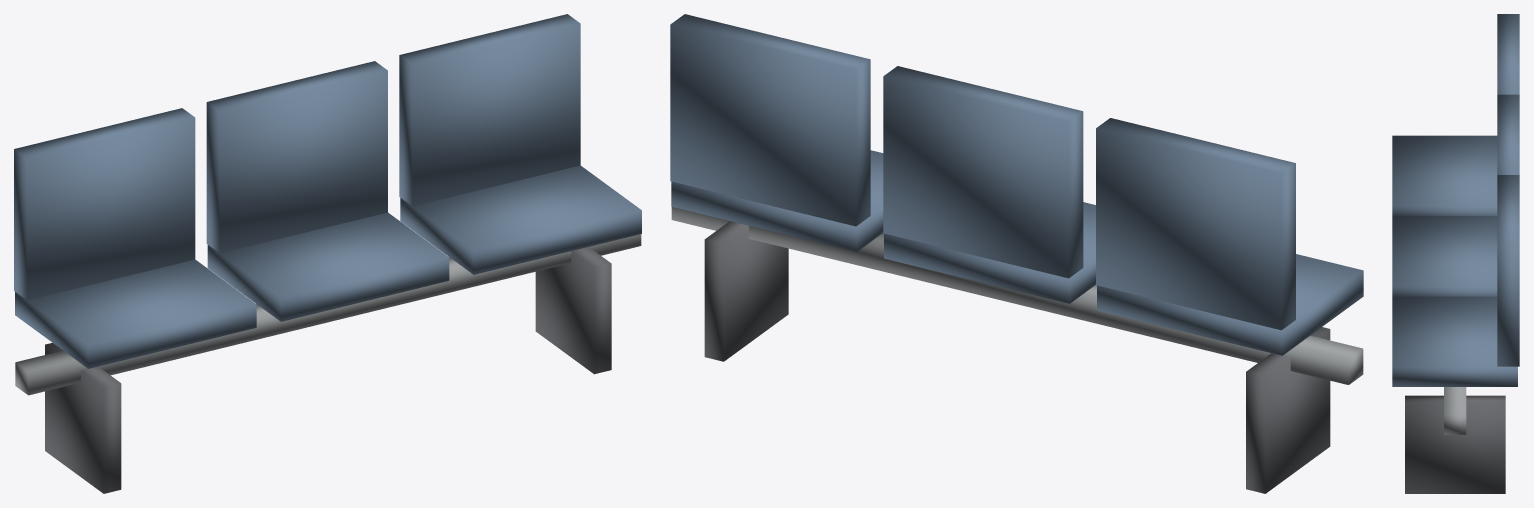
Rendered from waiting_chair_beam_row__wide.glb.
The picture shows the model from 3 angles, left to right: view 1: azimuth 30°, elevation 25°; view 2: azimuth 150°, elevation 25°; view 3: azimuth 270°, elevation 25°; orthographic projection. The views are drawn at different scales.
Visible parts, largest first — view 1: world; view 2: world; view 3: world.
Boxes of the visible parts, bbox=[...] form: world: bbox=[14, 14, 641, 493]; world: bbox=[670, 14, 1363, 493]; world: bbox=[1392, 14, 1519, 493].
Size of the model in its own units: 2.17 by 1.02 by 0.455.
